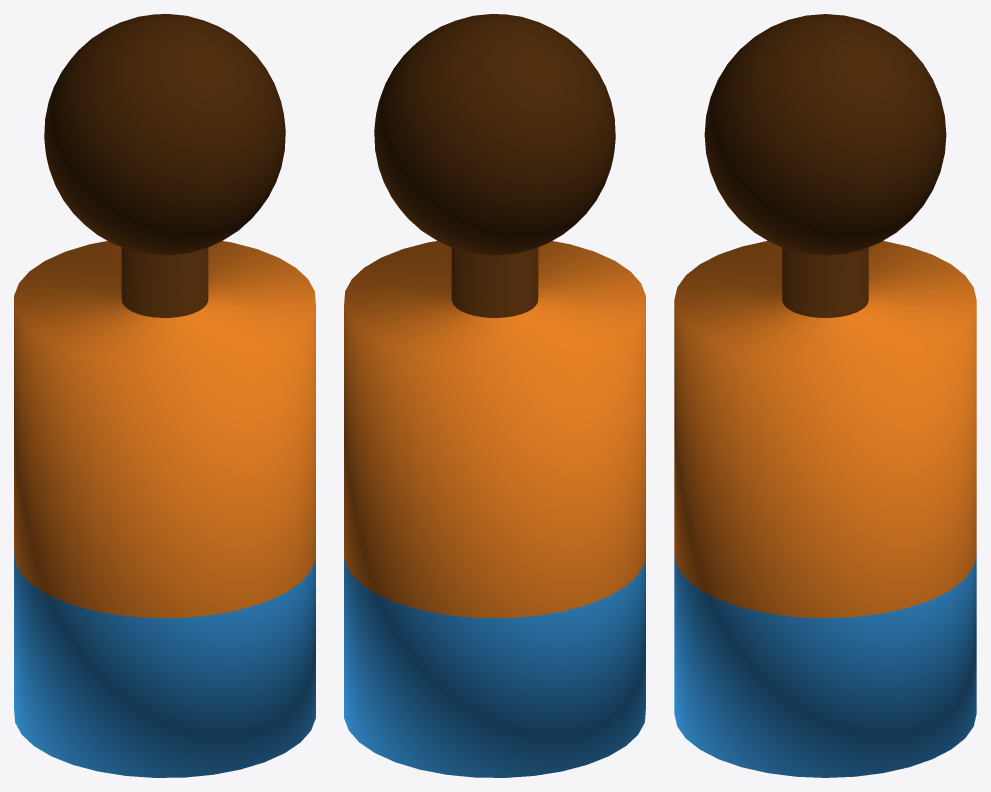
Rendered from Character_08.fbx.
The picture shows the model from 3 angles, left to right: view 1: azimuth 30°, elevation 25°; view 2: azimuth 150°, elevation 25°; view 3: azimuth 270°, elevation 25°; orthographic projection.
Visible parts, largest first — view 1: Circle.002, Icosphere.002; view 2: Circle.002, Icosphere.002; view 3: Circle.002, Icosphere.002.
Part boxes in pixels (x1,y1,x2,y2): Circle.002: [14, 241, 315, 777]; Icosphere.002: [44, 14, 285, 255]; Circle.002: [344, 241, 645, 777]; Icosphere.002: [374, 14, 615, 255]; Circle.002: [674, 240, 976, 777]; Icosphere.002: [704, 14, 946, 255].
Bounding box in the file's own units: 200 × 503 × 200.
